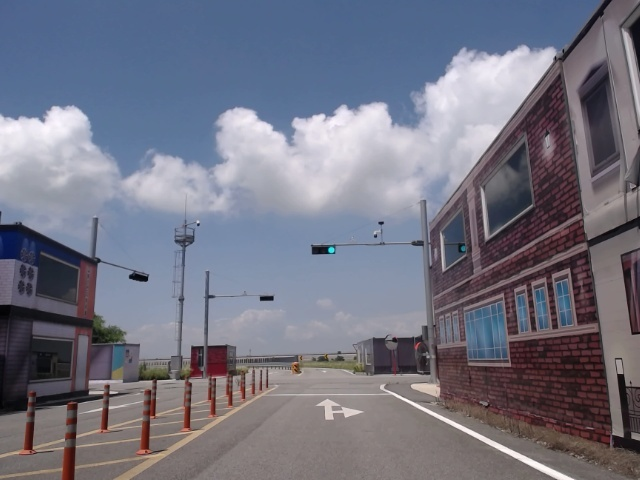green_3: (313, 246, 335, 255)
